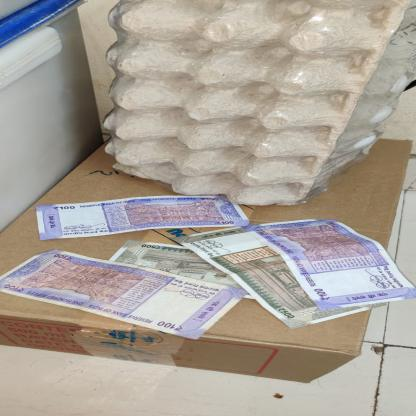New100Back: (0, 249, 249, 341), (248, 219, 415, 311), (34, 195, 250, 241)
New500Back: (169, 226, 390, 329), (109, 240, 256, 300)
